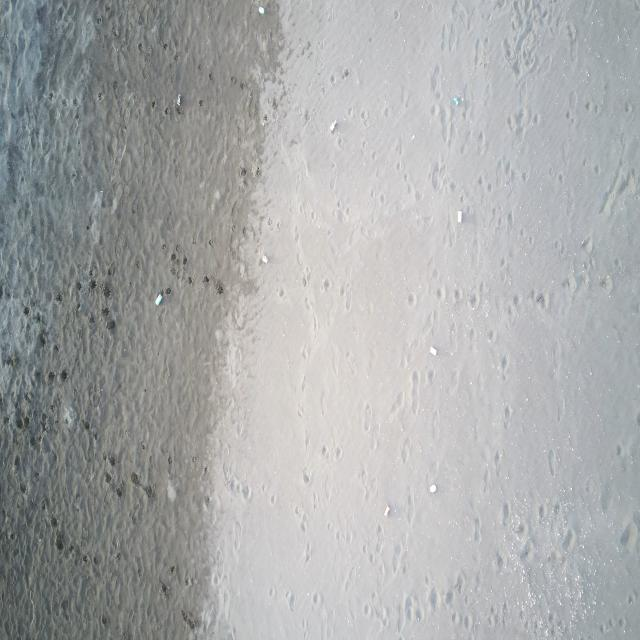tin-and-aluminum-cans: (329, 118, 338, 132), (154, 293, 163, 306), (429, 484, 437, 495), (429, 346, 437, 357), (384, 504, 390, 518), (258, 6, 265, 16), (262, 254, 268, 264), (453, 96, 459, 105), (177, 93, 181, 106), (458, 210, 462, 223)
